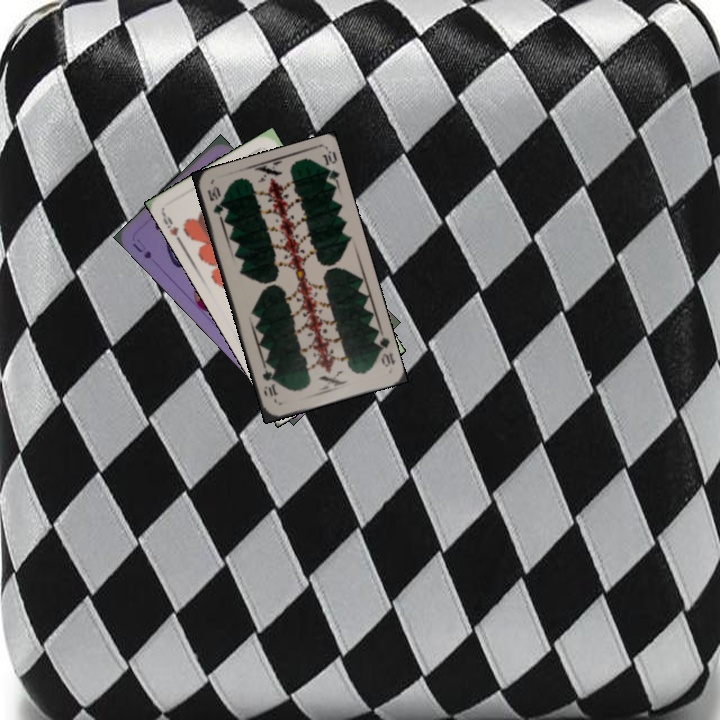G10: (370, 329, 397, 370), (203, 182, 229, 223)
H9: (158, 209, 184, 246)
SU: (128, 235, 154, 261)
